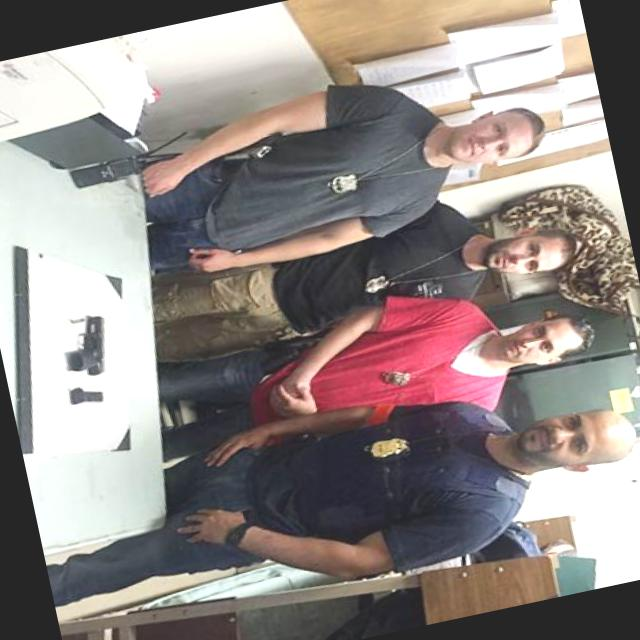handgun: (48, 304, 122, 383)
